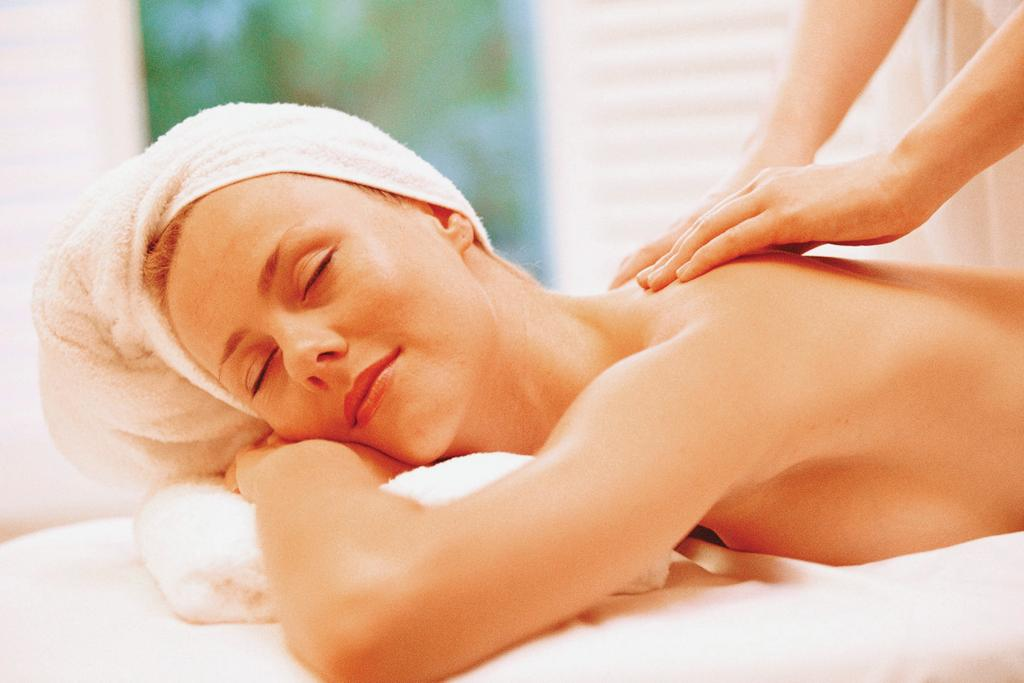face: (178, 210, 454, 466)
